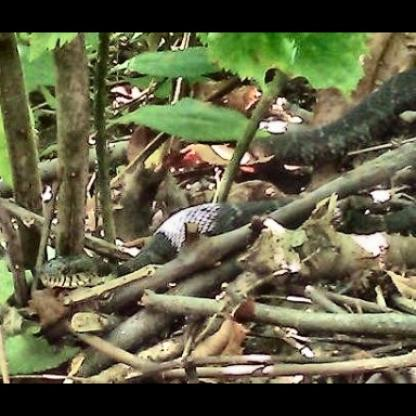Snake: (38, 240, 182, 302), (151, 198, 264, 255)
